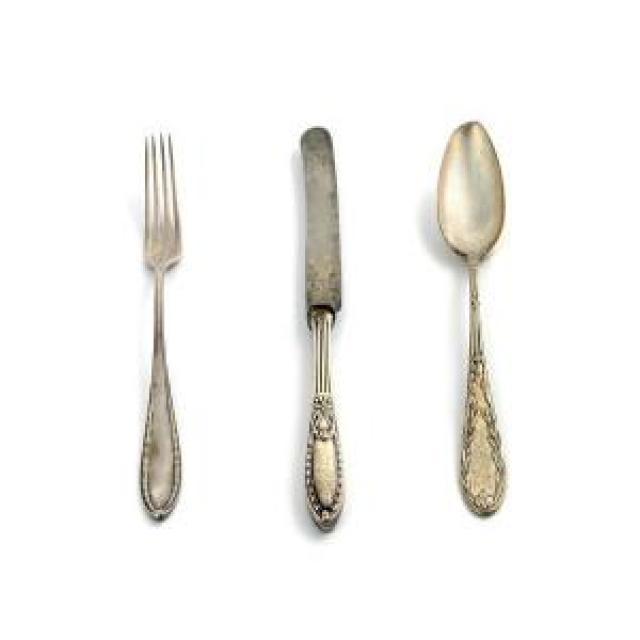knife: (299, 122, 351, 530)
